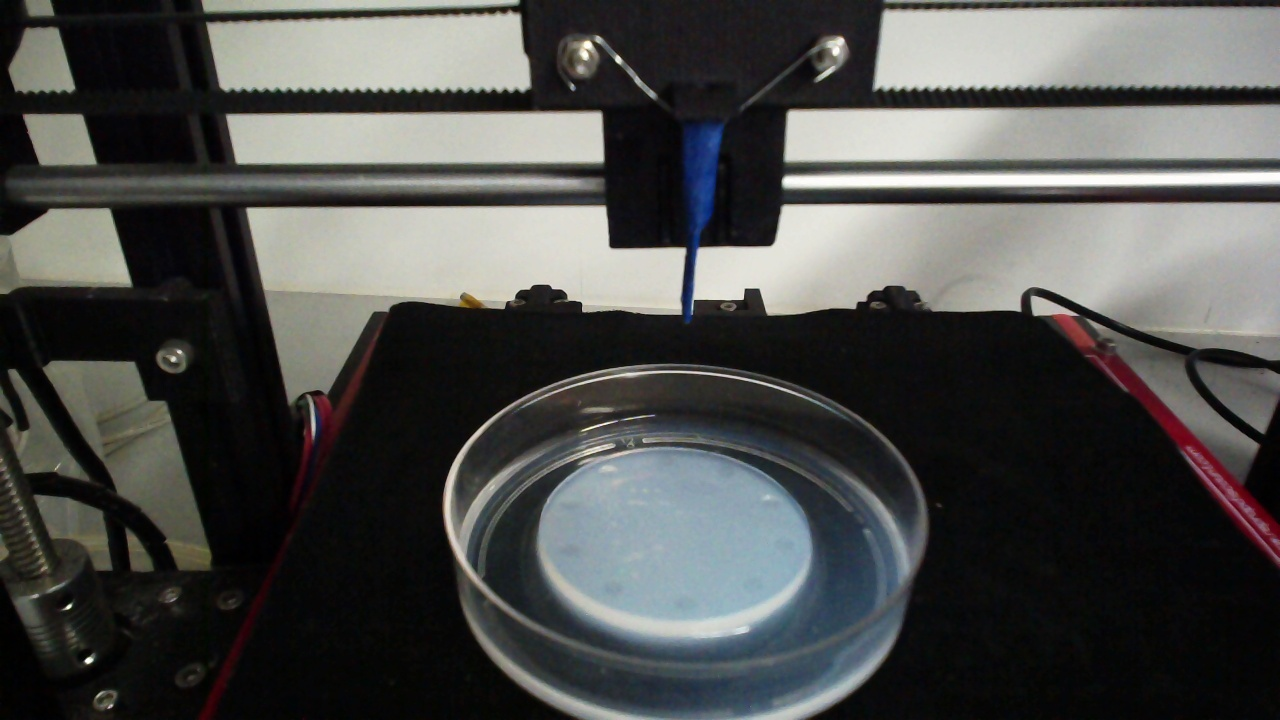groove: (769, 535, 797, 554), (599, 578, 624, 598), (742, 573, 765, 594), (556, 540, 581, 559), (674, 595, 699, 614), (757, 494, 782, 512), (597, 464, 623, 481), (556, 496, 581, 513), (656, 452, 677, 470), (715, 462, 736, 479)
needle: (680, 123, 723, 325)
